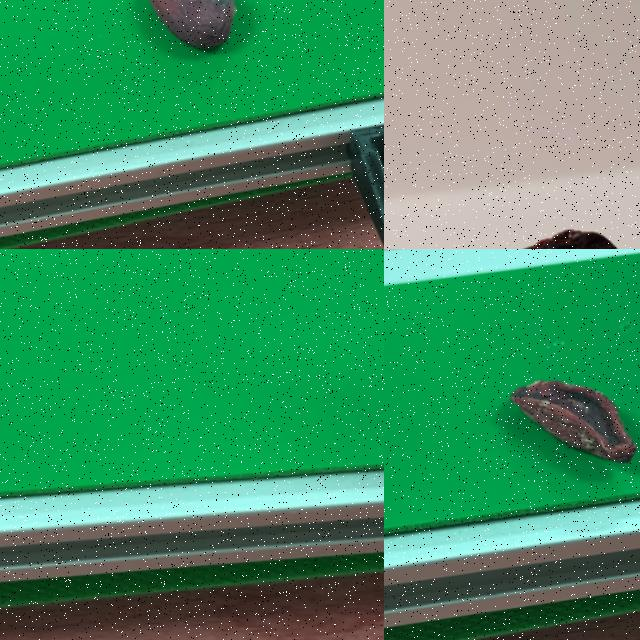Fine_cocoabeans: (66, 0, 349, 96)
Flat_cocoabeans: (446, 317, 639, 529), (384, 181, 639, 248)
